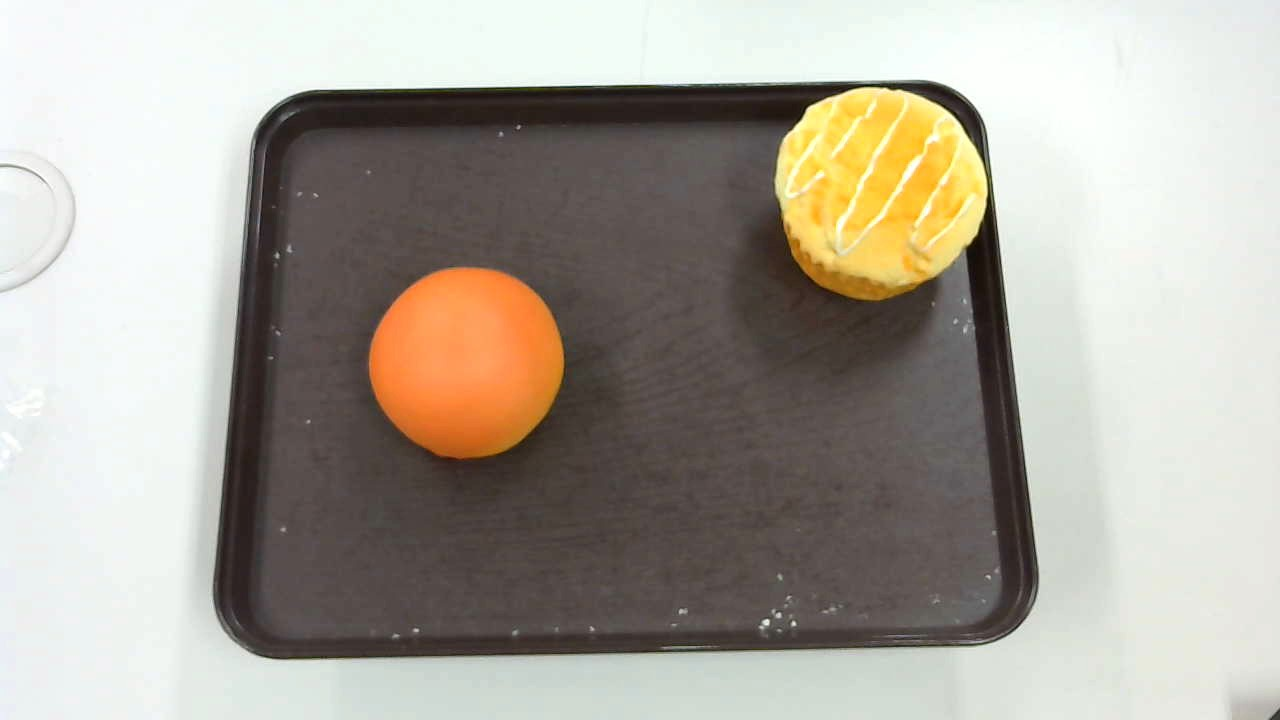bun: (368, 267, 565, 458)
cupcake: (774, 86, 988, 301)
